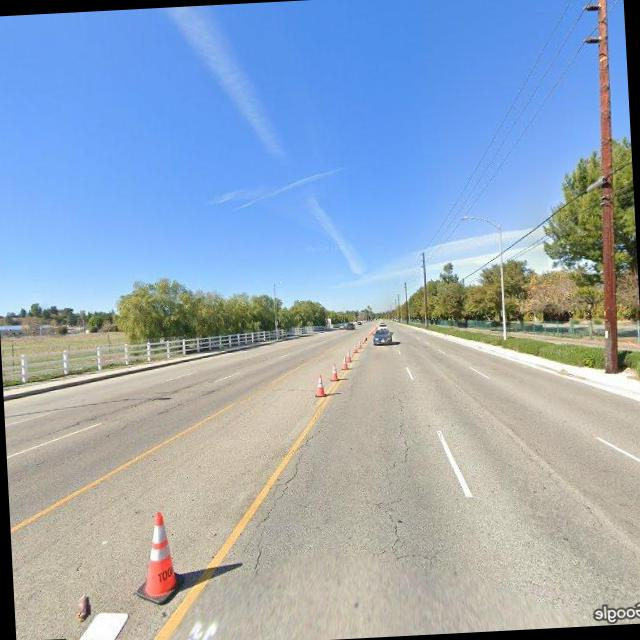crack: (241, 418, 336, 568), (390, 386, 416, 466), (378, 496, 409, 561)
